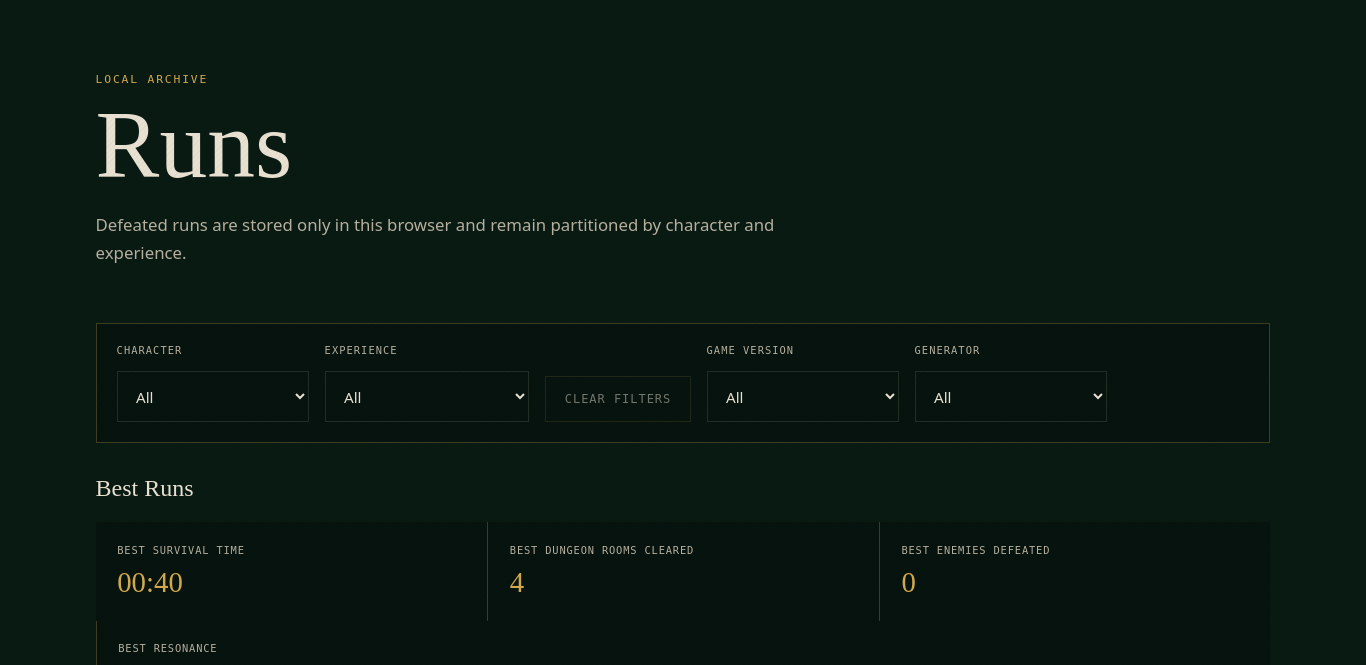
Resonant Ruins Runs page › filters character and experience, preserves Unknown Experience, and clears filtered-empty state
Select "Ember" in the dropdown labelled "Character" at (213, 396), box [117,371,309,422]
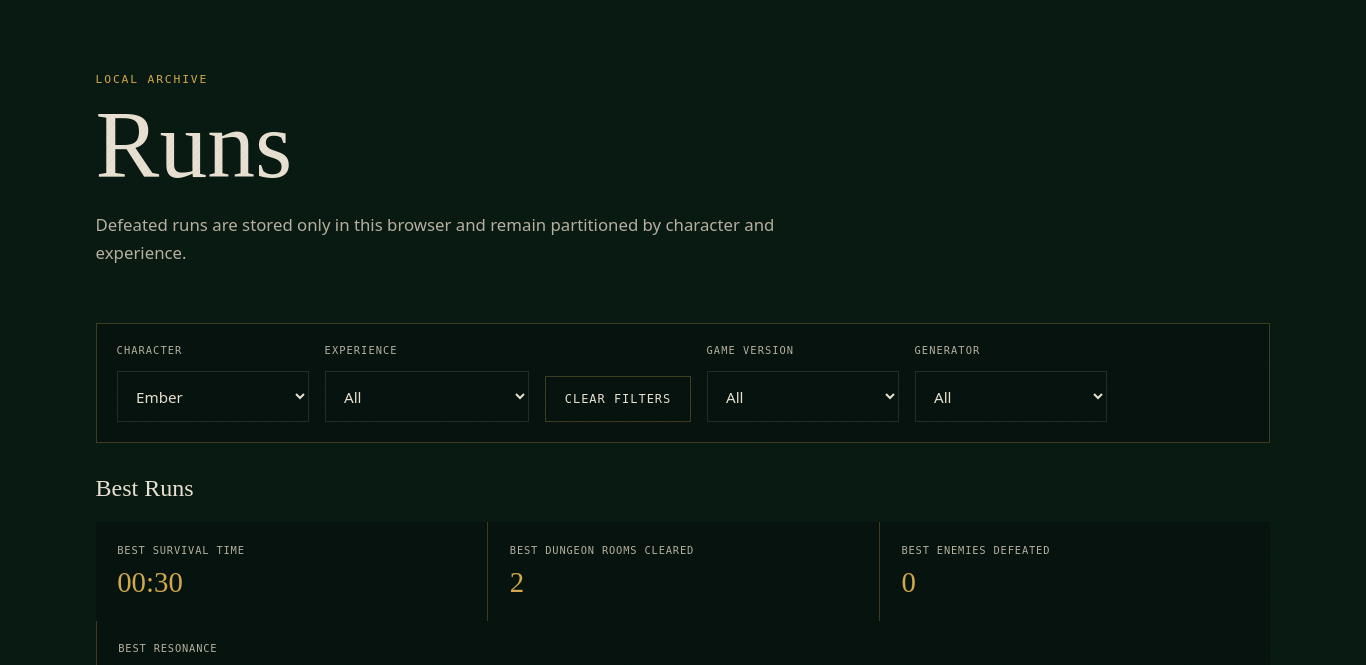
Select "Dungeon Veteran" in the dropdown labelled "Experience" at (427, 396), box [325,371,529,422]
(page scrolled)
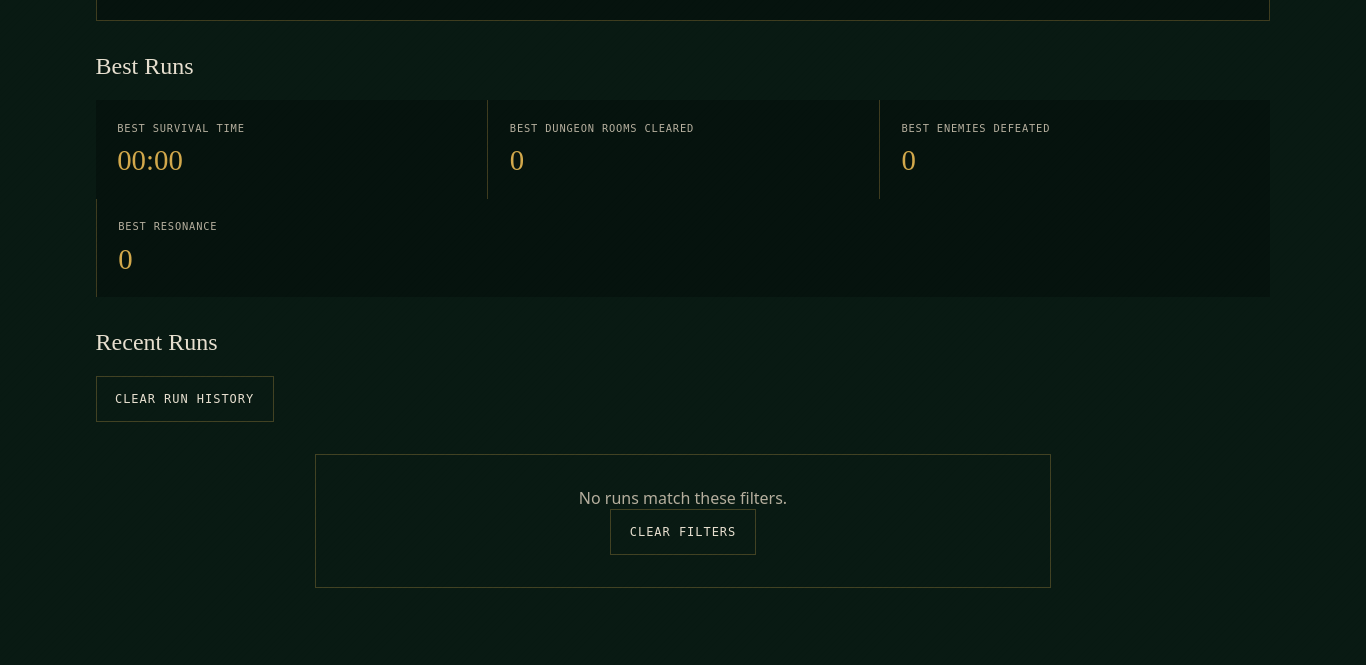
Result: the text "No runs match these filters." is shown at [579,487,787,509]
Click the button "Clear Filters" below "No runs match these filters.".
click(683, 532)  # box [610,509,756,555]
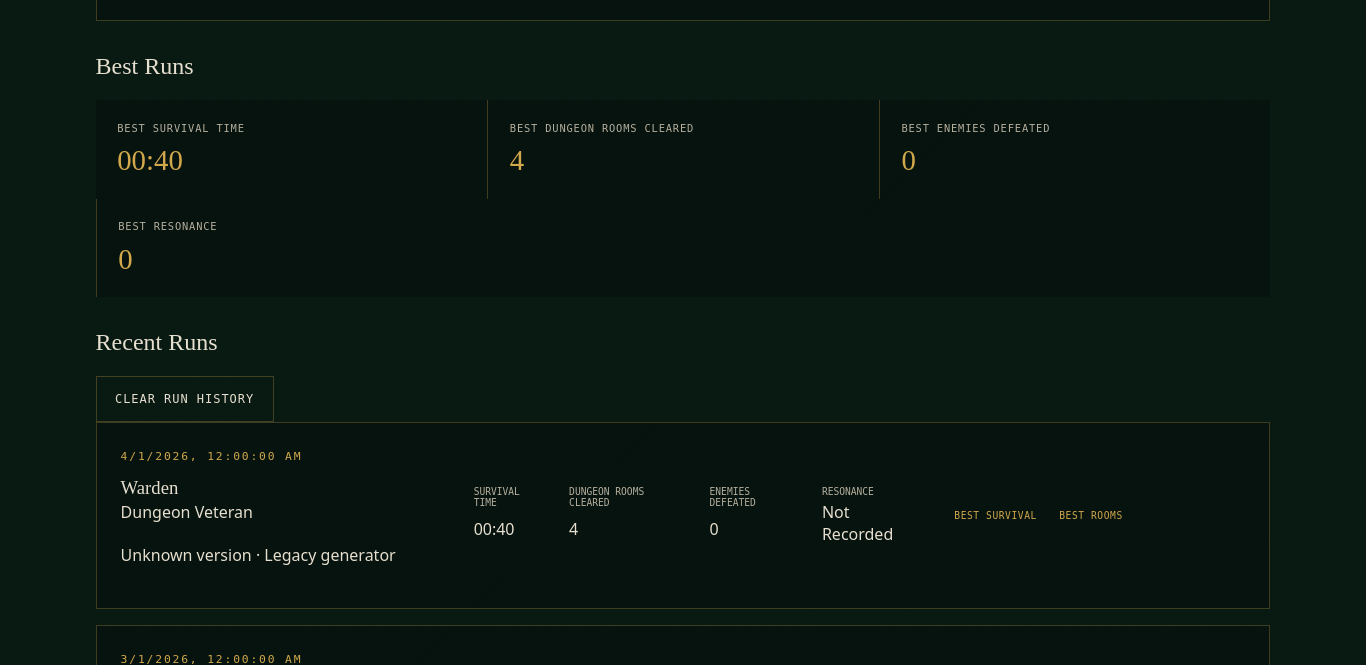
Result: the heading "Warden" is shown at [121,477,178,498]
